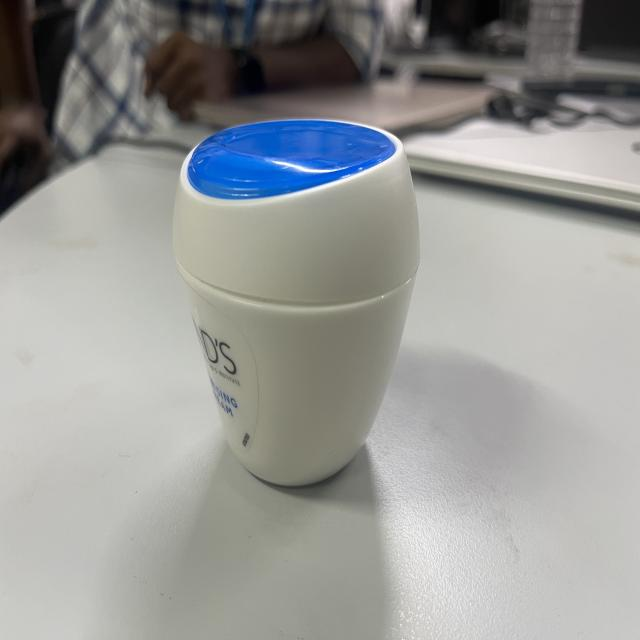L1: (172, 115, 426, 495)
